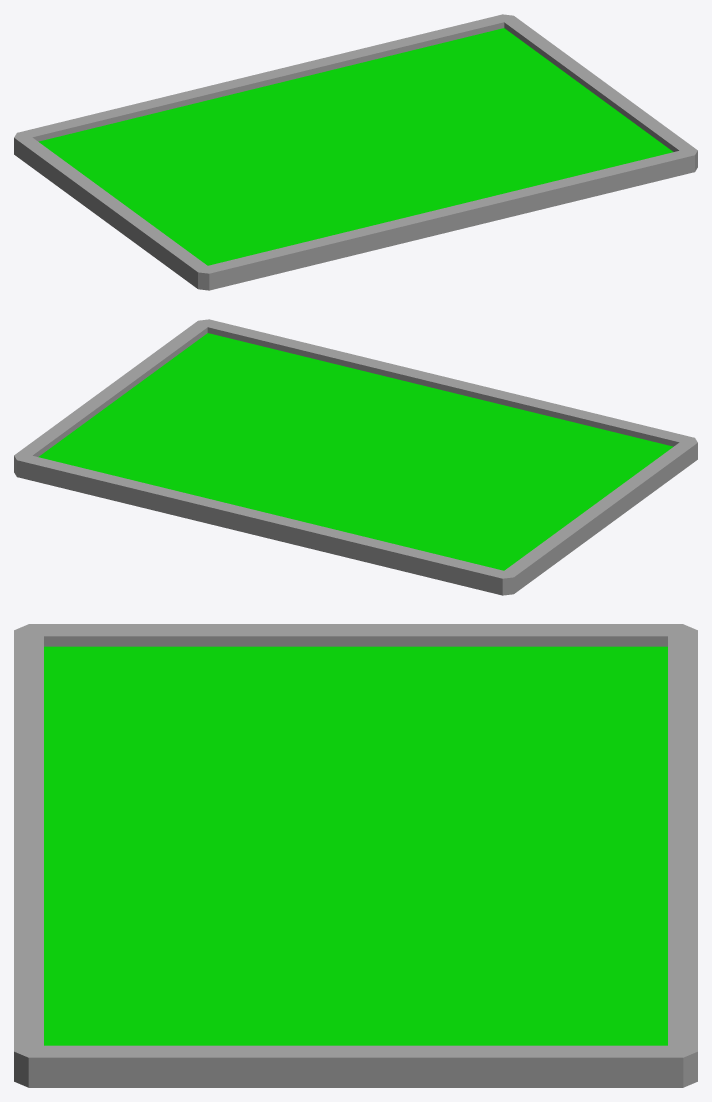
Rendered from Screen.fbx.
3 renders of one model, top to bottom at view 1: azimuth 30°, elevation 25°; view 2: azimuth 150°, elevation 25°; view 3: azimuth 270°, elevation 25°, orthographic. The views are drawn at different scales.
Parts seen in each view (by area): view 1: pCube7; view 2: pCube7; view 3: pCube7.
Part boxes in pixels (bbox=[...]): pCube7: bbox=[14, 14, 697, 290]; pCube7: bbox=[14, 319, 697, 595]; pCube7: bbox=[14, 624, 697, 1087].
Bounding box in the file's own units: 300 × 9.7 × 200.
